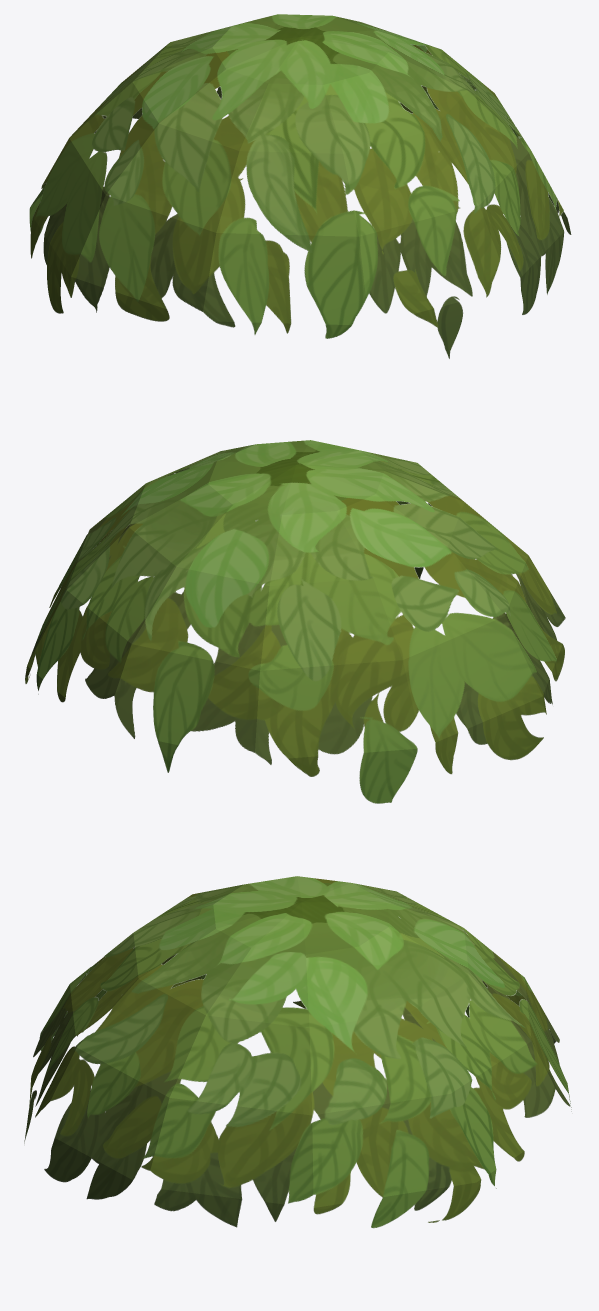
Rendered from SM_Bush_01.fbx.
The picture shows the model from 3 angles, top to bottom: view 1: azimuth 30°, elevation 25°; view 2: azimuth 150°, elevation 25°; view 3: azimuth 270°, elevation 25°; orthographic projection. The views are drawn at different scales.
Parts seen in each view (by area): view 1: pSphere22; view 2: pSphere22; view 3: pSphere22.
Part boxes in pixels (x1,y1,x2,y2): pSphere22: (29,14,571,358); pSphere22: (25,440,565,803); pSphere22: (24,876,571,1228).
Bounding box in the file's own units: 70.34 × 35.61 × 67.95.
Materials: 1 (1 with a texture image).
